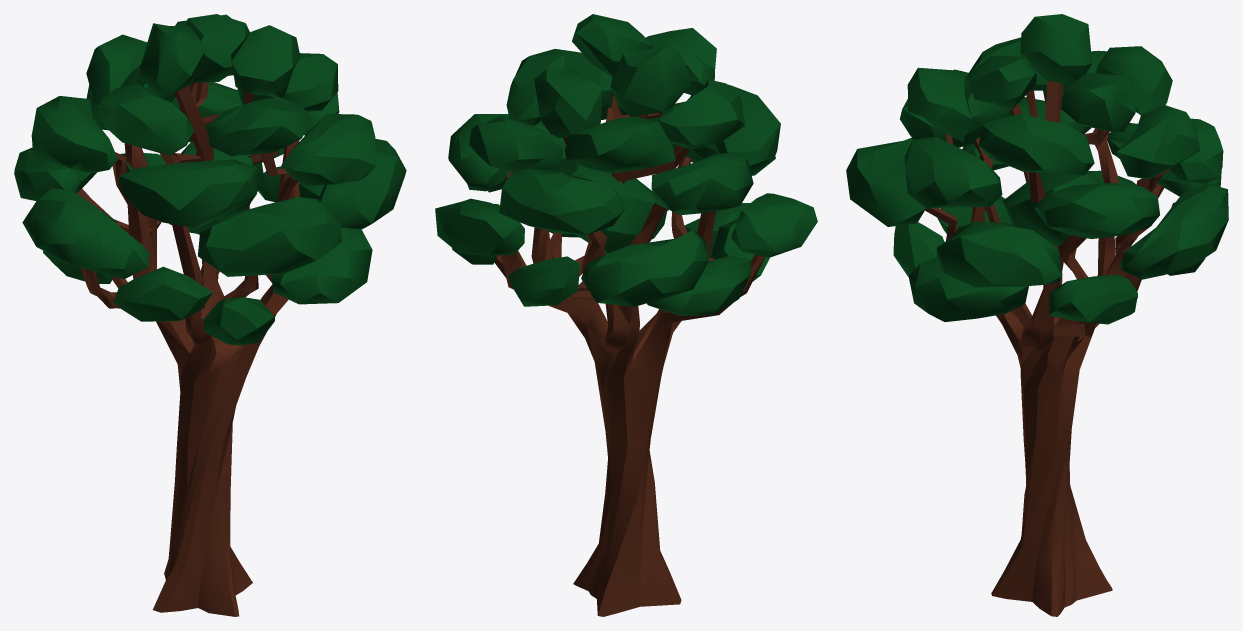
Rendered from Tree_1_High.fbx.
3 renders of one model, left to right at view 1: azimuth 30°, elevation 25°; view 2: azimuth 150°, elevation 25°; view 3: azimuth 270°, elevation 25°, orthographic. The views are drawn at different scales.
Visible parts, largest first — view 1: Tree_1_High; view 2: Tree_1_High; view 3: Tree_1_High.
Boxes of the visible parts, x1,y1,x2,y2 form: Tree_1_High: [14, 14, 406, 616]; Tree_1_High: [435, 14, 817, 616]; Tree_1_High: [846, 14, 1228, 616].
Size of the model in its own units: 161 by 253 by 157.
